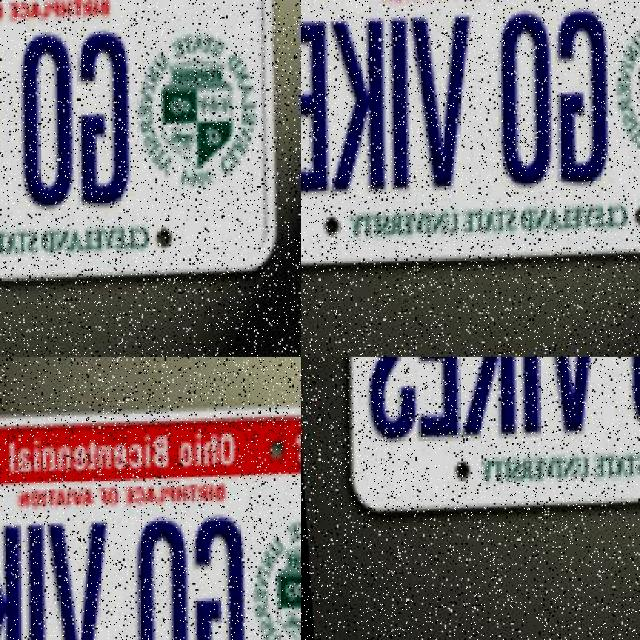licenseplate: (349, 357, 640, 480)
